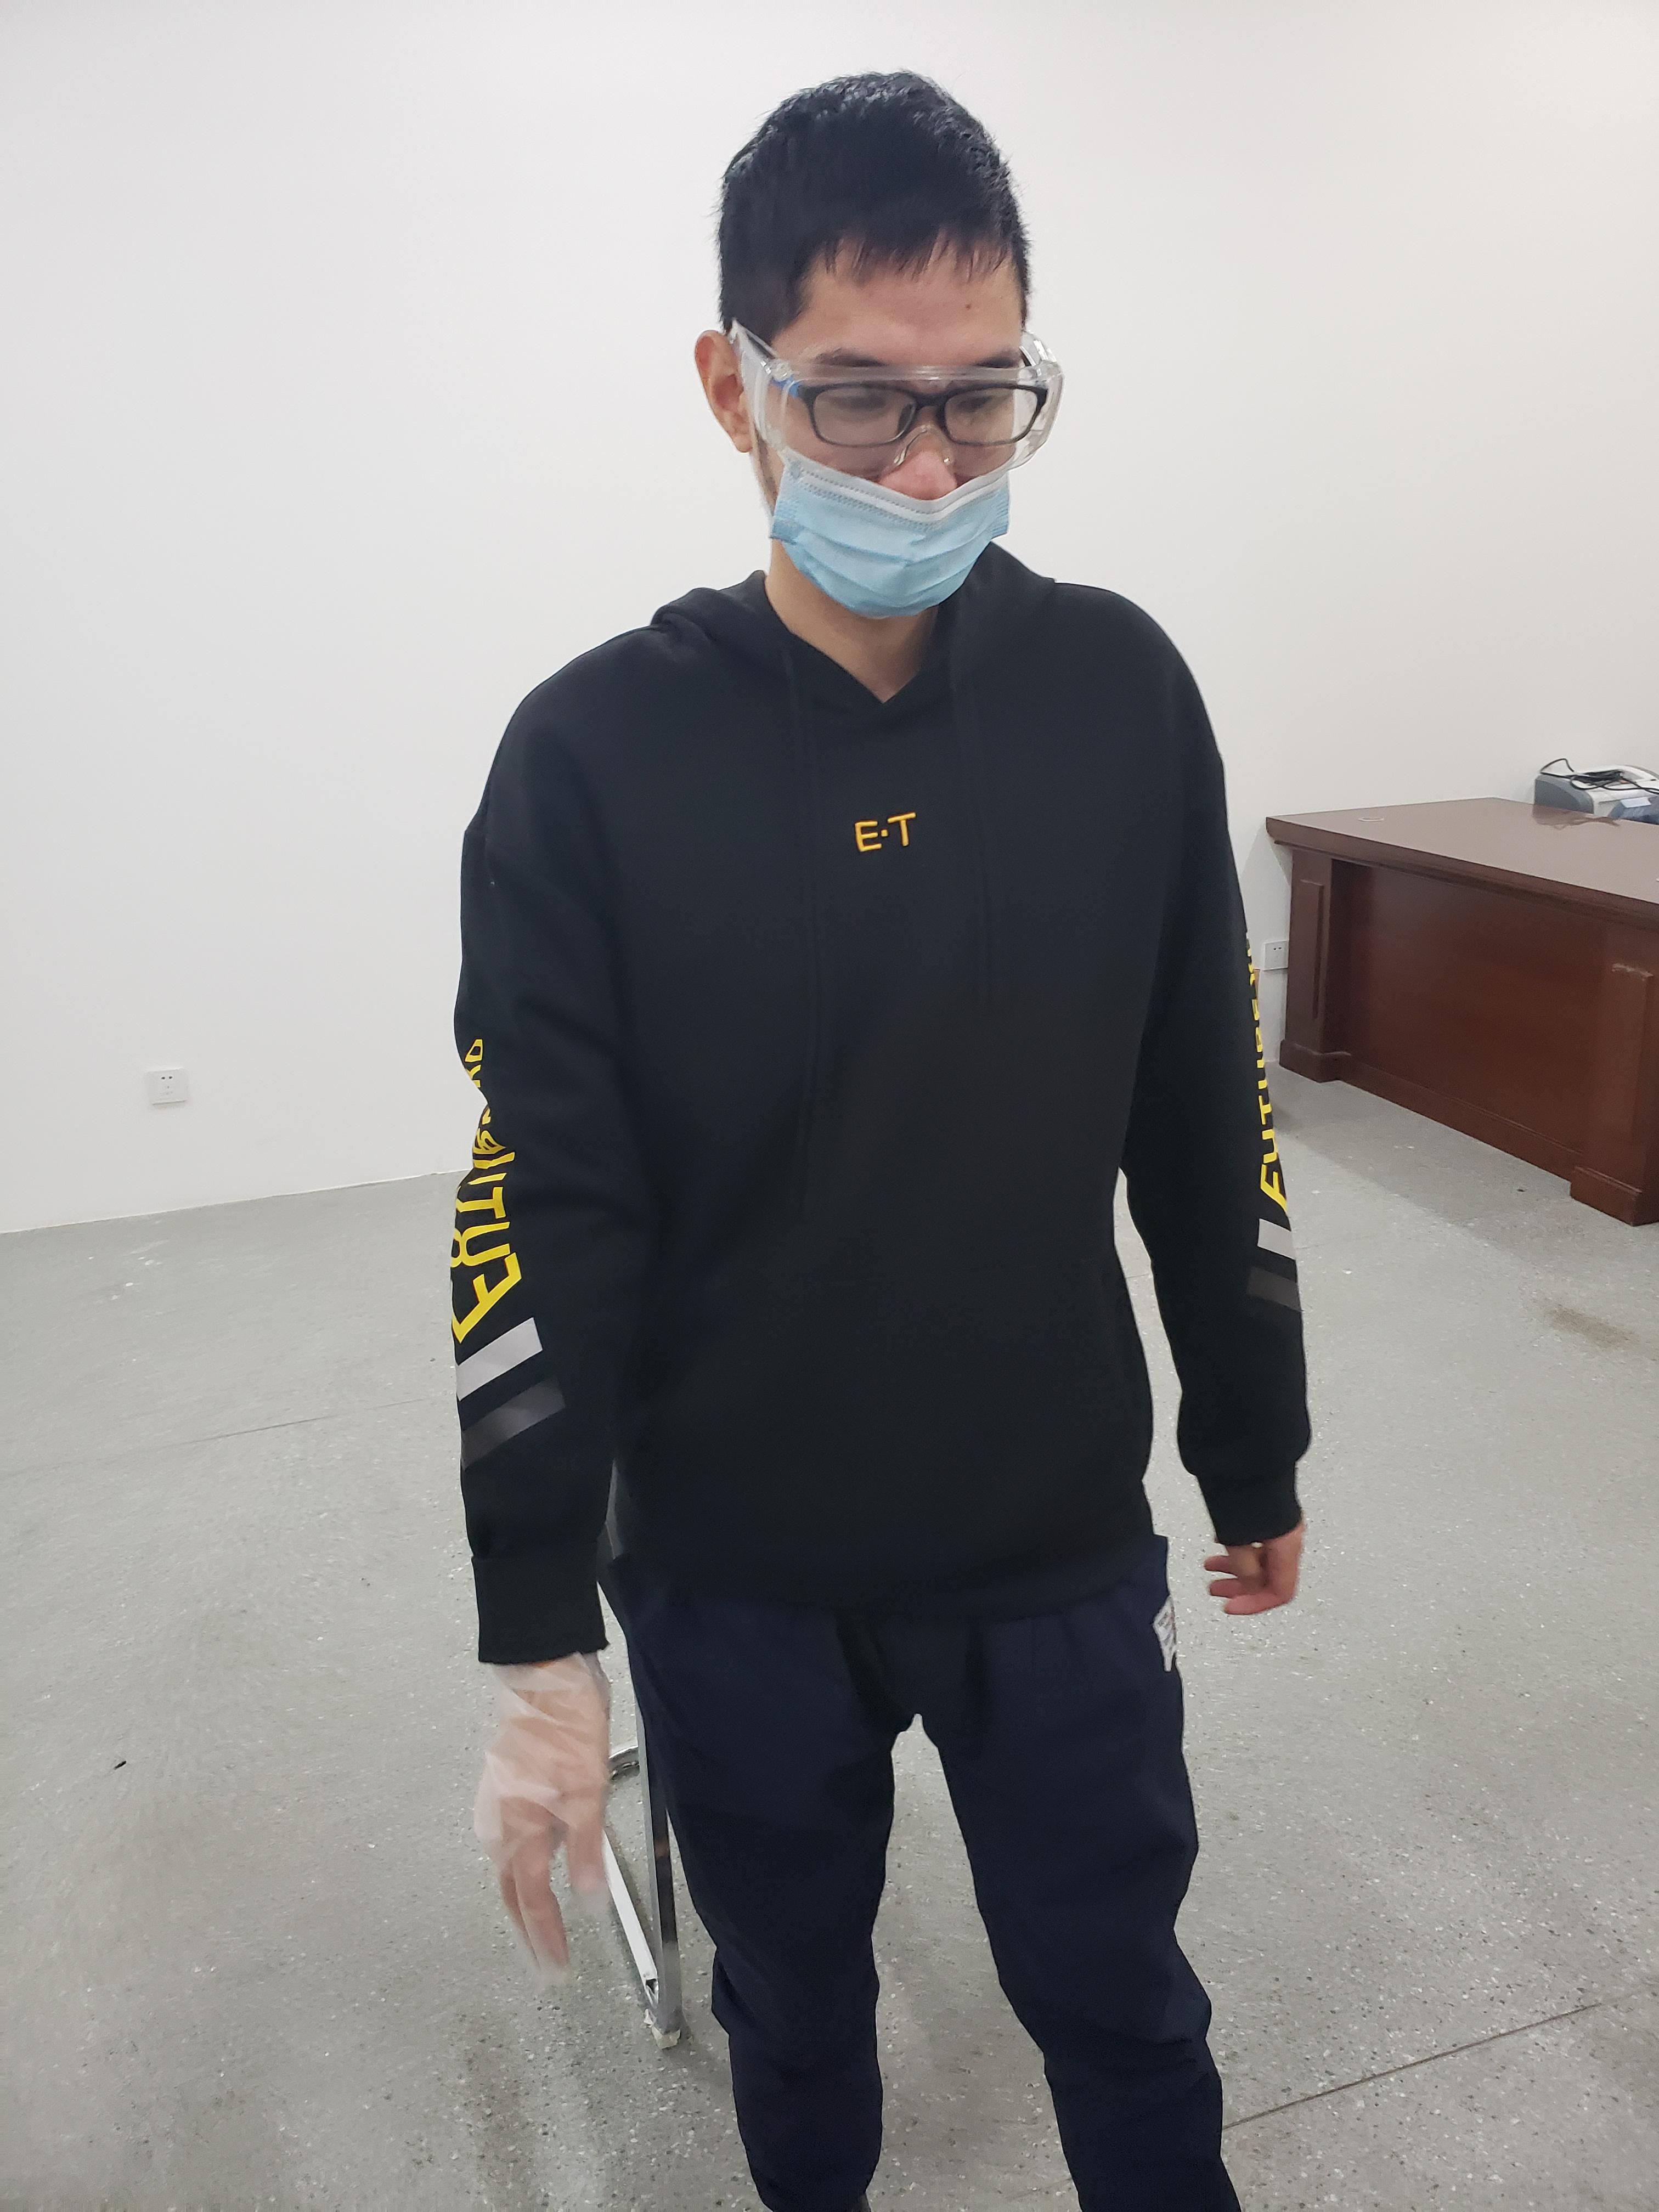Mask: (751, 435, 1037, 622)
glasses: (692, 307, 1080, 474)
gloves: (453, 1634, 643, 1982)
